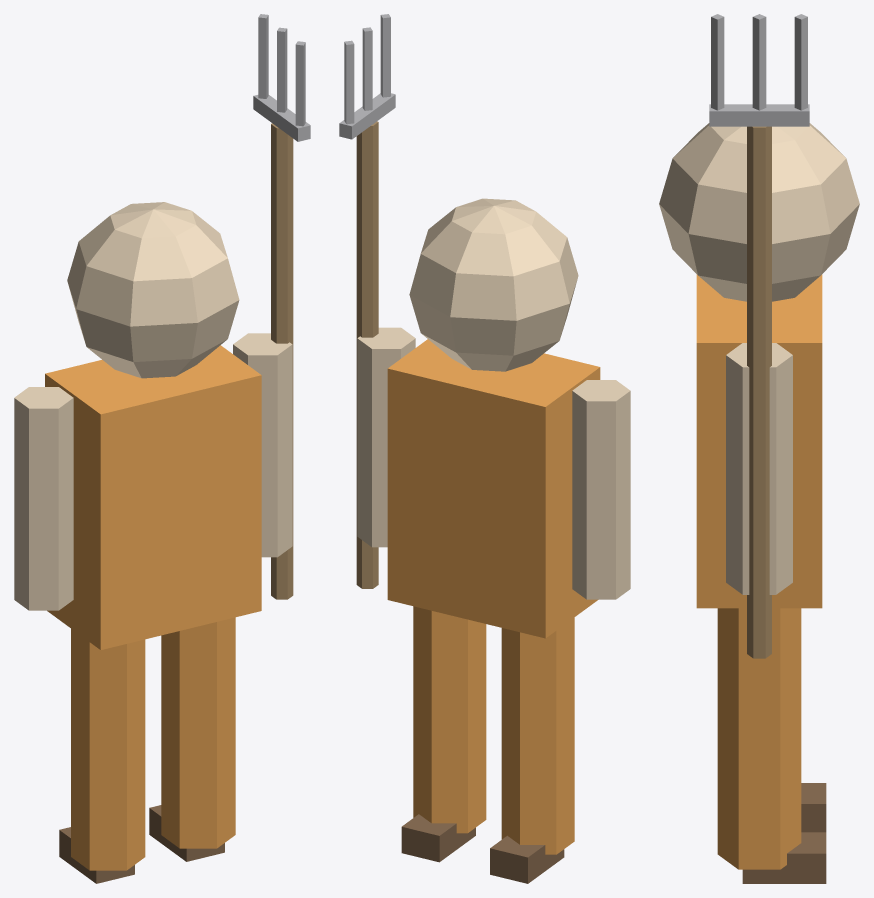
The model's file is worker_orange.glb.
3 views of the same model, side by side, from view 1: azimuth 30°, elevation 25°; view 2: azimuth 150°, elevation 25°; view 3: azimuth 270°, elevation 25° (orthographic). The views are drawn at different scales.
Visible parts, largest first — view 1: Worker_orange; view 2: Worker_orange; view 3: Worker_orange.
Part boxes in pixels (box(x1,y1,x2,y2)): Worker_orange: box(14, 14, 310, 883); Worker_orange: box(339, 14, 630, 883); Worker_orange: box(659, 14, 859, 883).
Bounding box in the file's own units: 0.4176 × 1.19 × 0.24.
